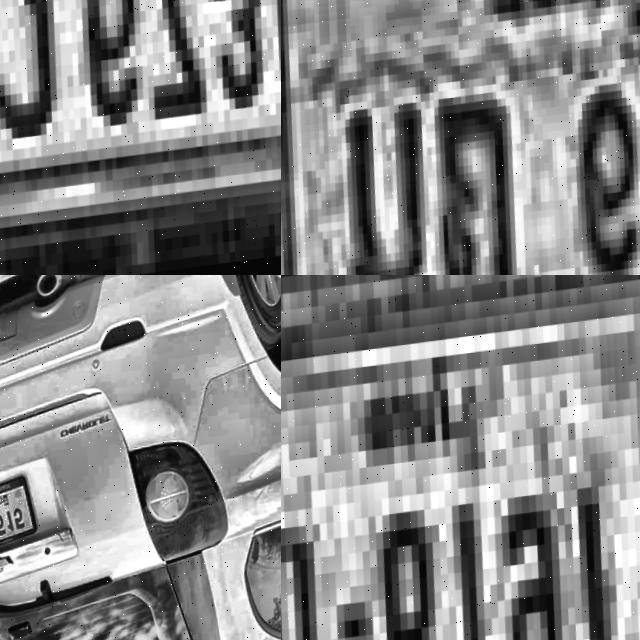license-plate: (281, 275, 640, 640), (281, 0, 640, 275), (0, 0, 281, 275), (0, 472, 48, 563)
